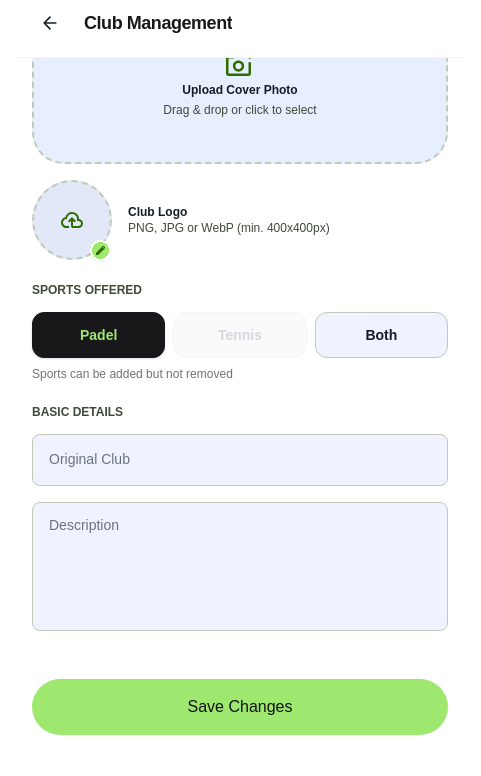
Test: EditClubFormClient › T18-AC3: displays sport_type field error under selector if API returns it
The image size is (481, 776).
(page scrolled)
What coordinates should you click on to do the following:
click the button "Save Changes"
I would click on:
 (240, 707)
Its box is [32,679,448,735].
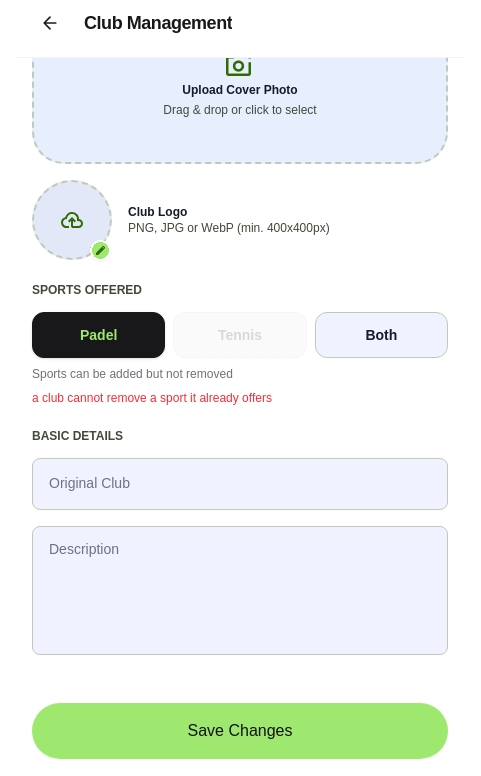
Check: the text "a club cannot remove a sport it already offers" is shown, box [32,391,272,405]
